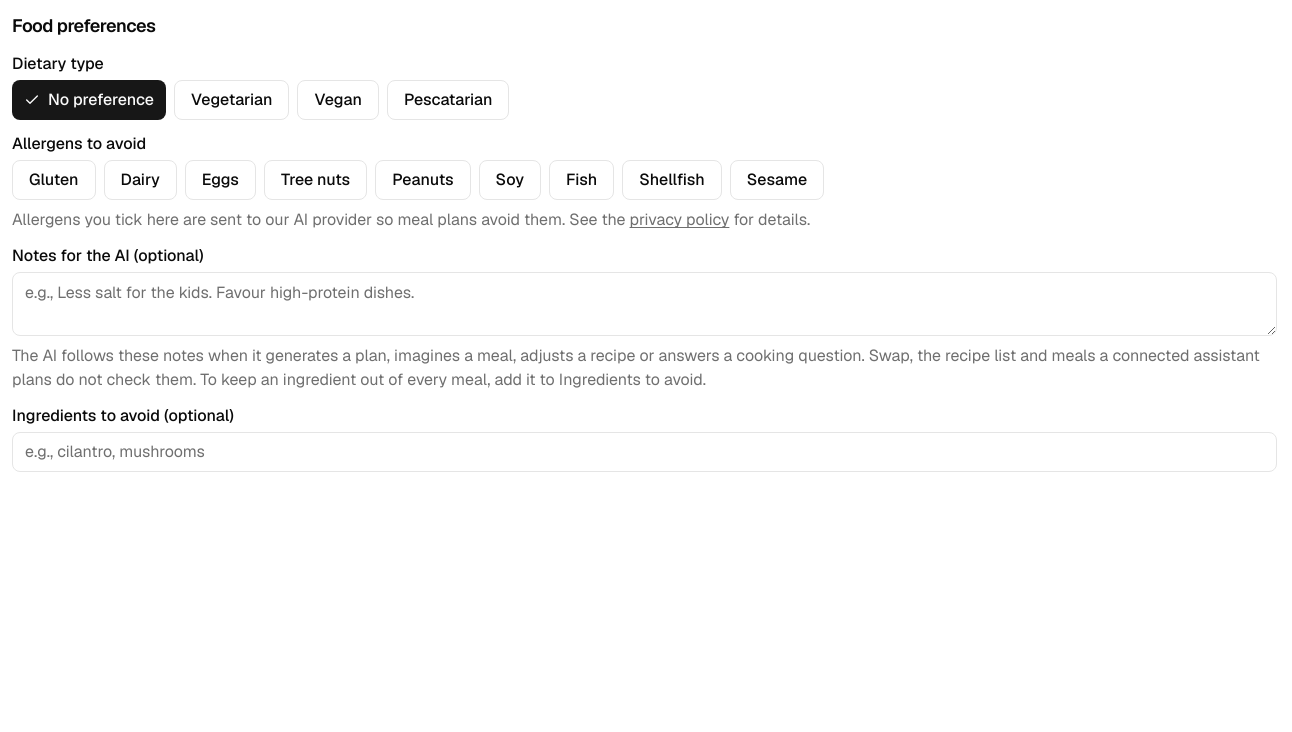
Scenario: FoodPreferencesForm › save button visibility › hides the button again when the change is undone
The width and height of the screenshot is (1292, 732).
Click the button "Gluten" at (54, 180), box 12,160 -> 96,200
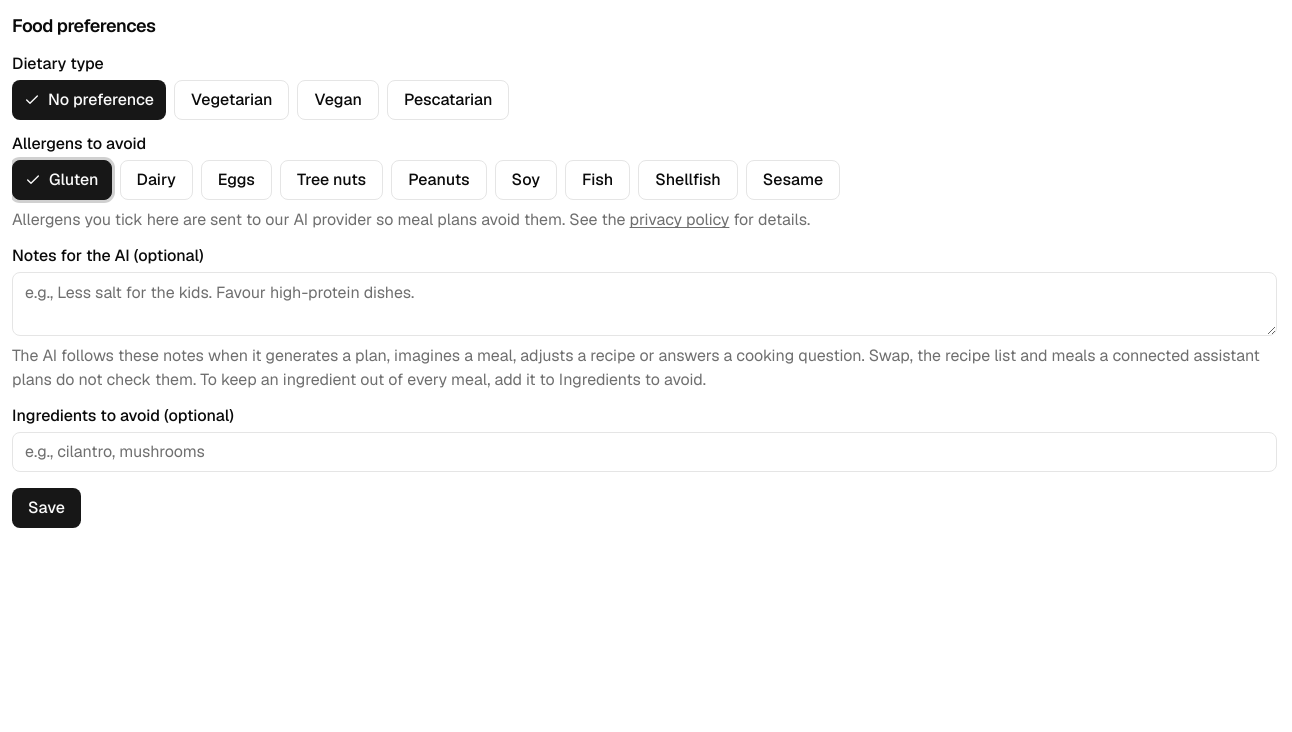
Click the button "Gluten" at (62, 180), box 12,160 -> 112,200
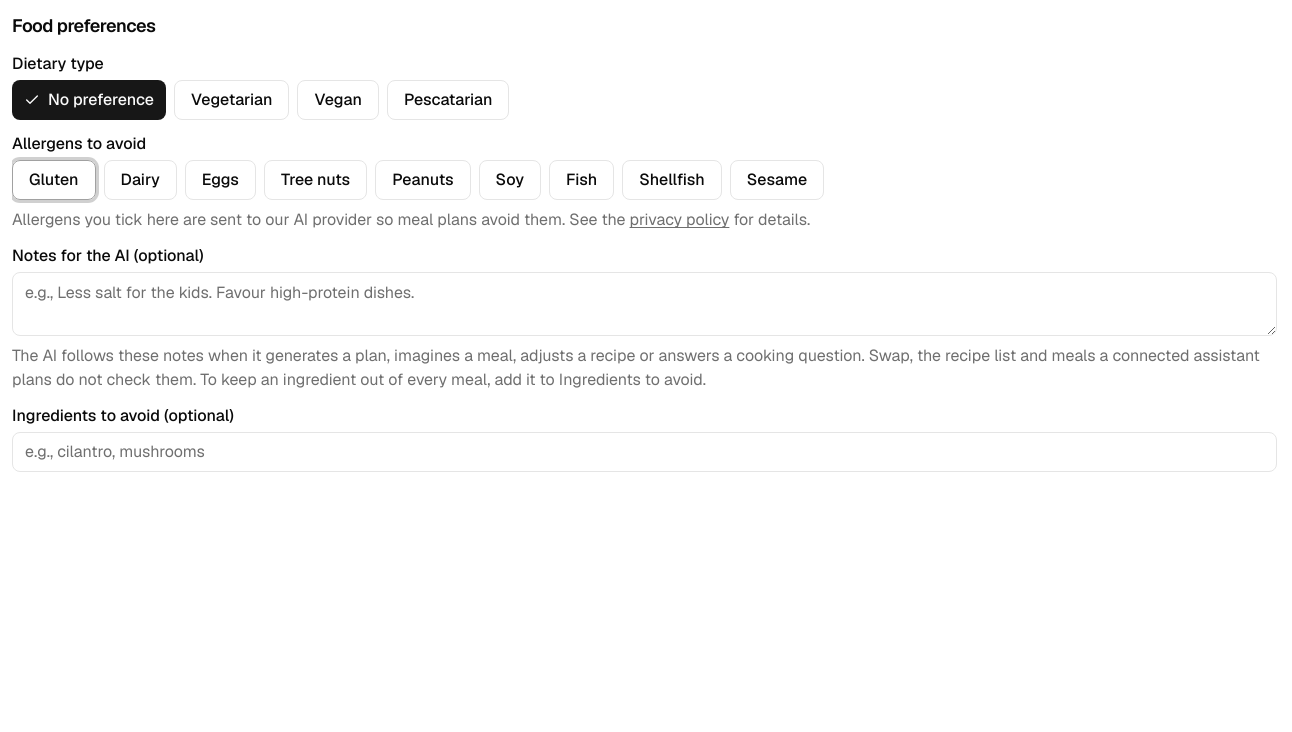
Expected: the button "Save" is gone
